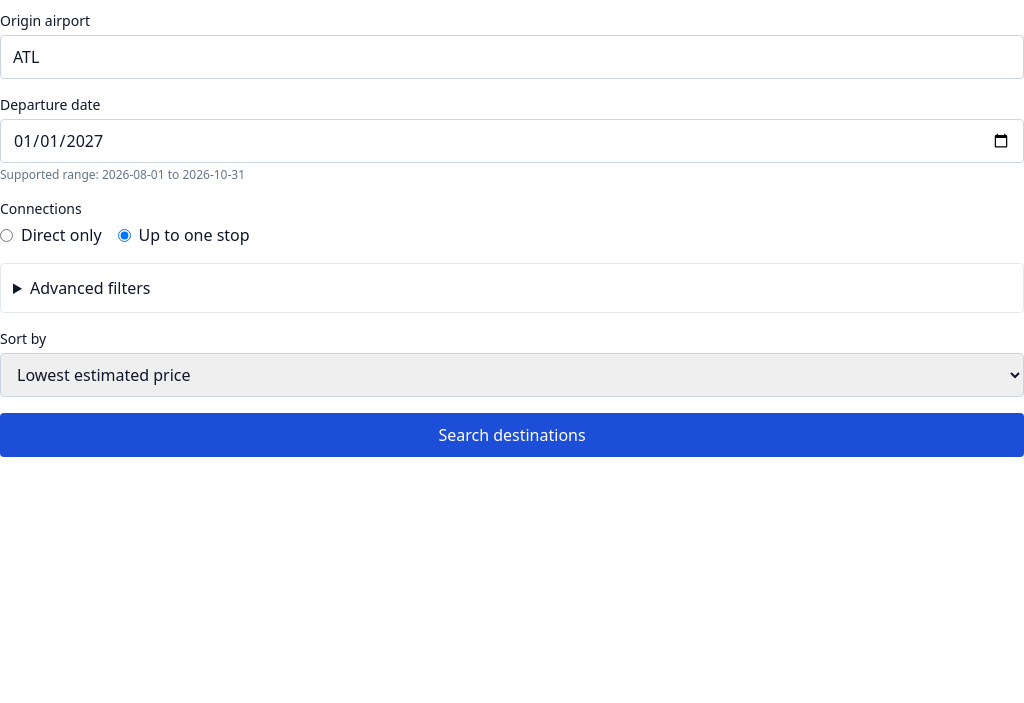
Test: SearchForm › rejects schedule-range and connection-range errors and focuses the alert
Click the button "Search destinations". click: (512, 435)
box: [0,413,1023,457]
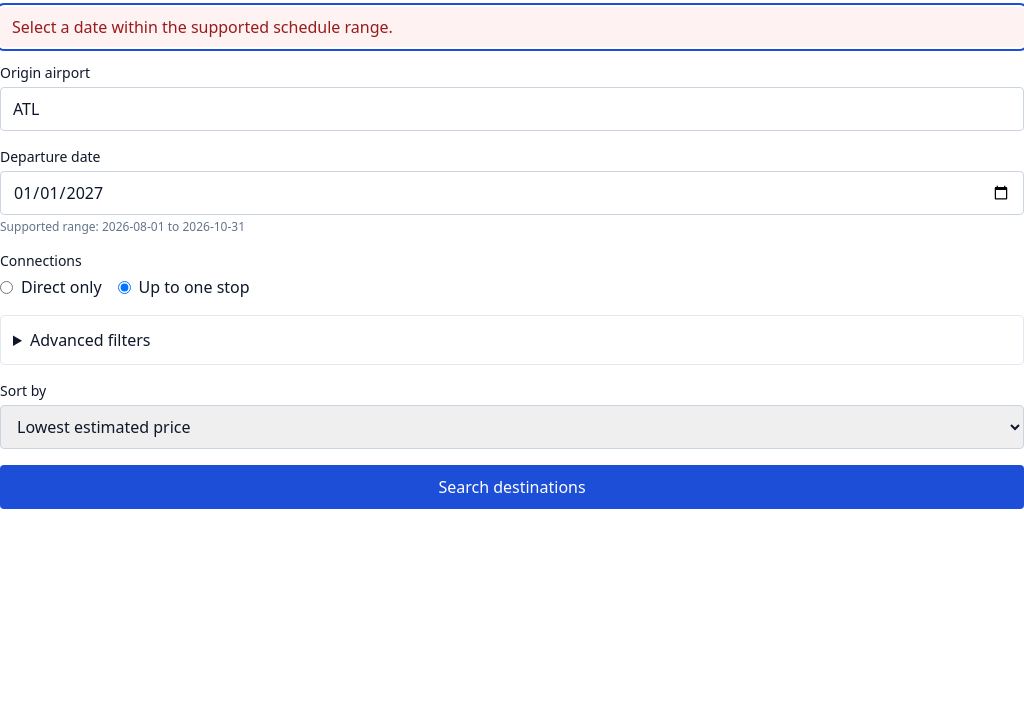
Expected: the message shows "supported schedule range", [12,16,393,38]
Type "2026-08-04" into the date field labelled "Departure date". click: (512, 193)
box: [0,171,1023,215]
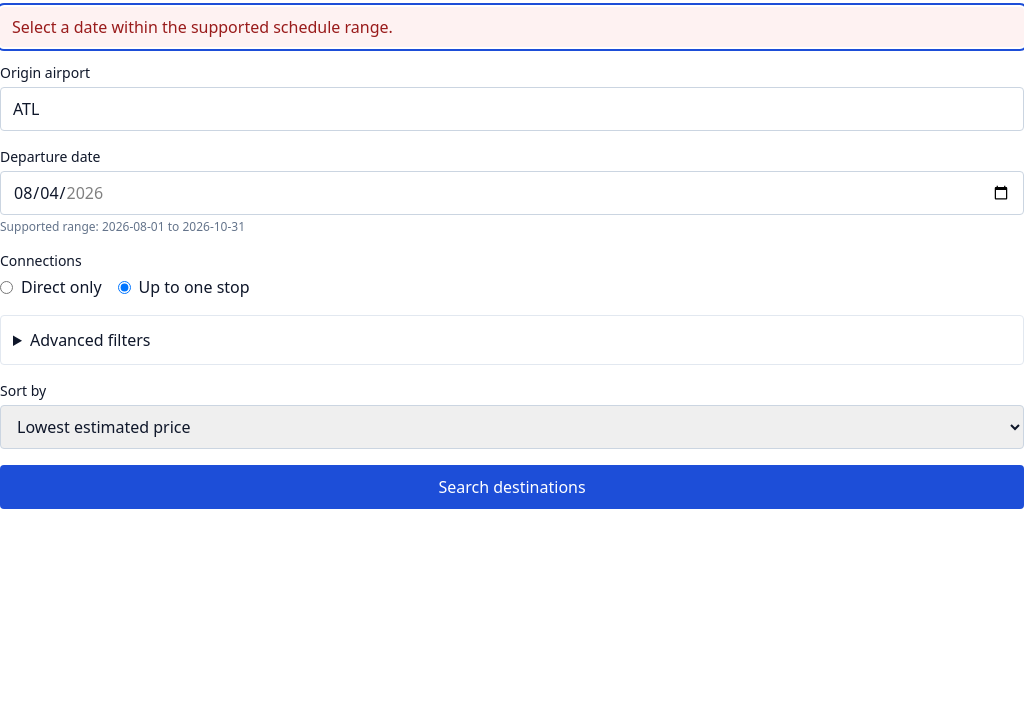
Click the heading "Advanced filters". click: (90, 340)
box: [30,329,150,351]
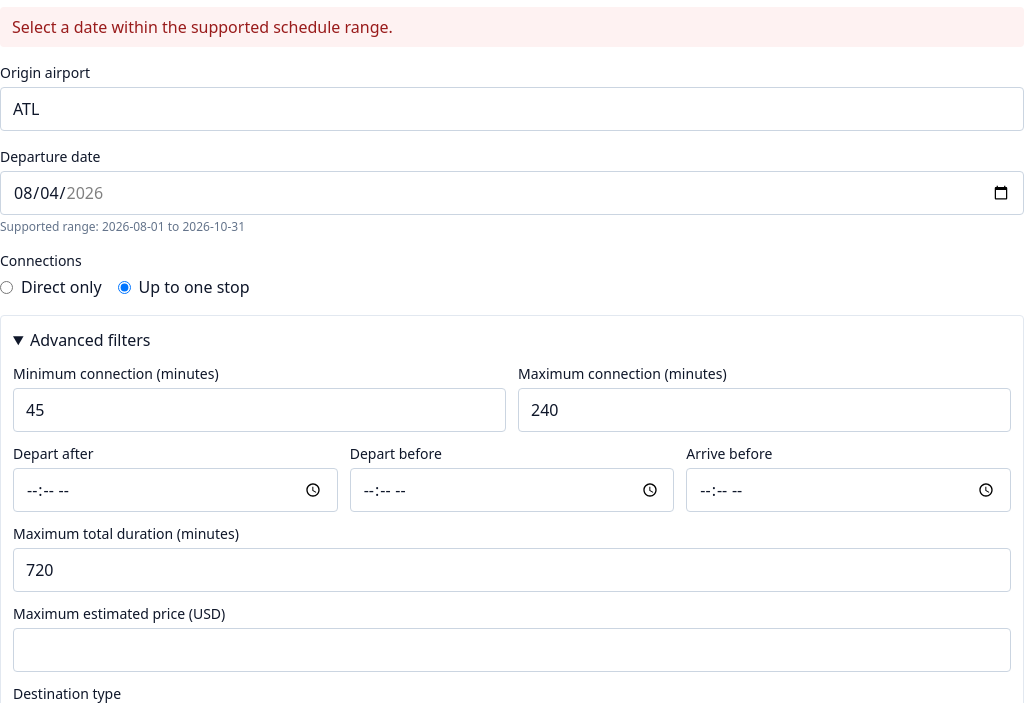
Replace the text in the number field labelled "Minimum connection (minutes)" with "300". click: (260, 410)
box: [13,388,506,432]
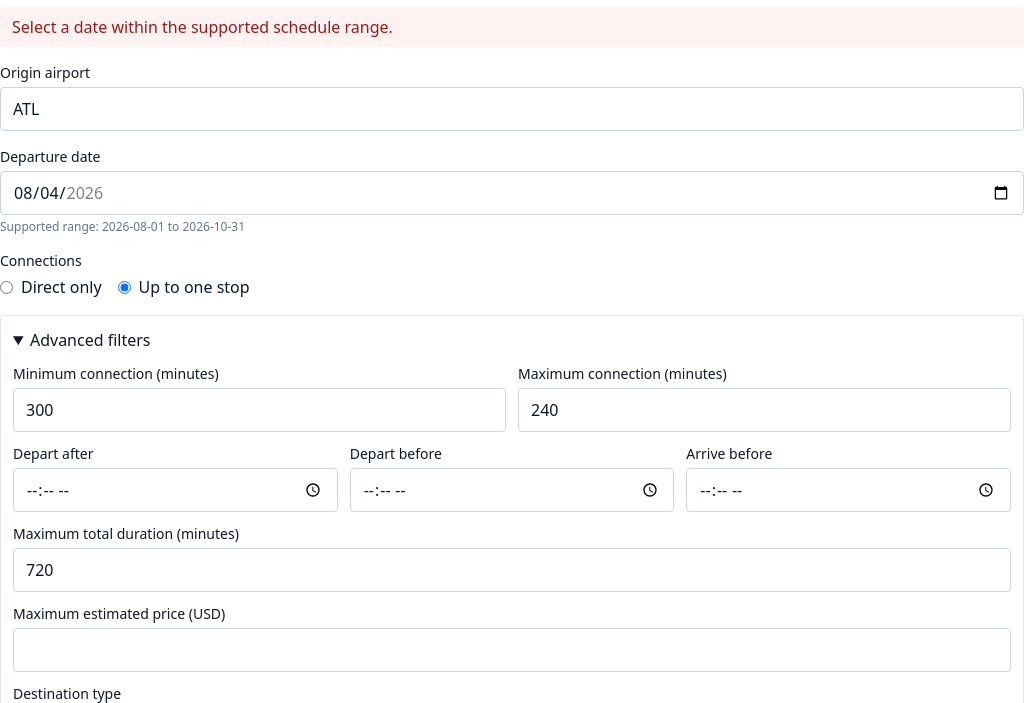
Replace the text in the number field labelled "Maximum connection (minutes)" with "60". click: (764, 410)
box: [518,388,1011,432]
(page scrolled)
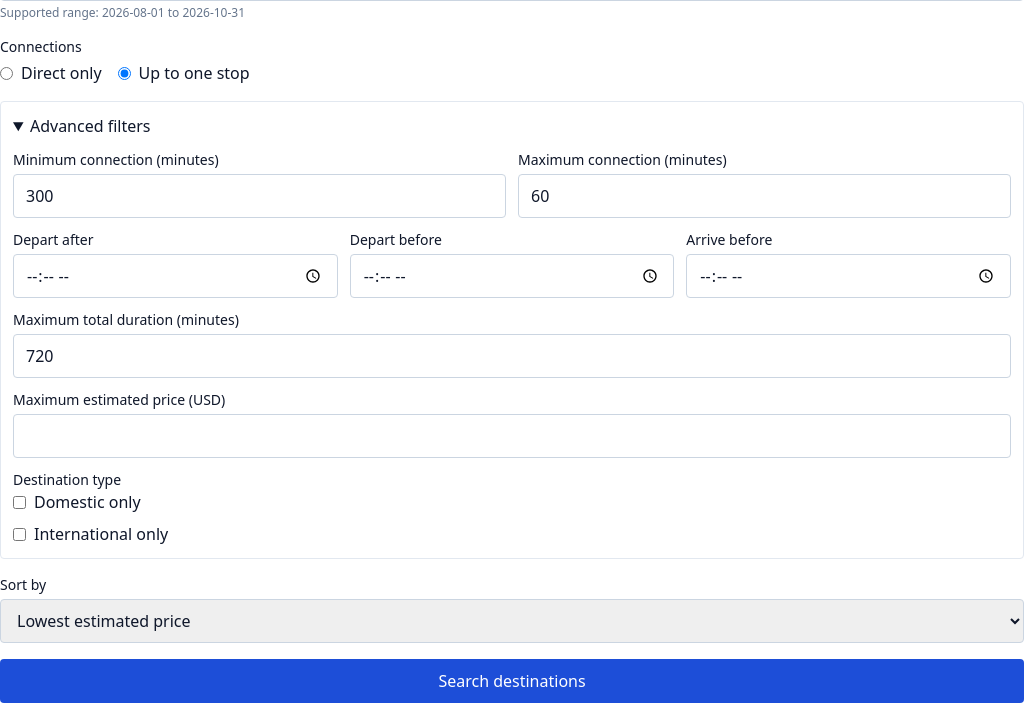
Click the button "Search destinations". click: (512, 681)
box: [0,659,1023,702]
(page scrolled)
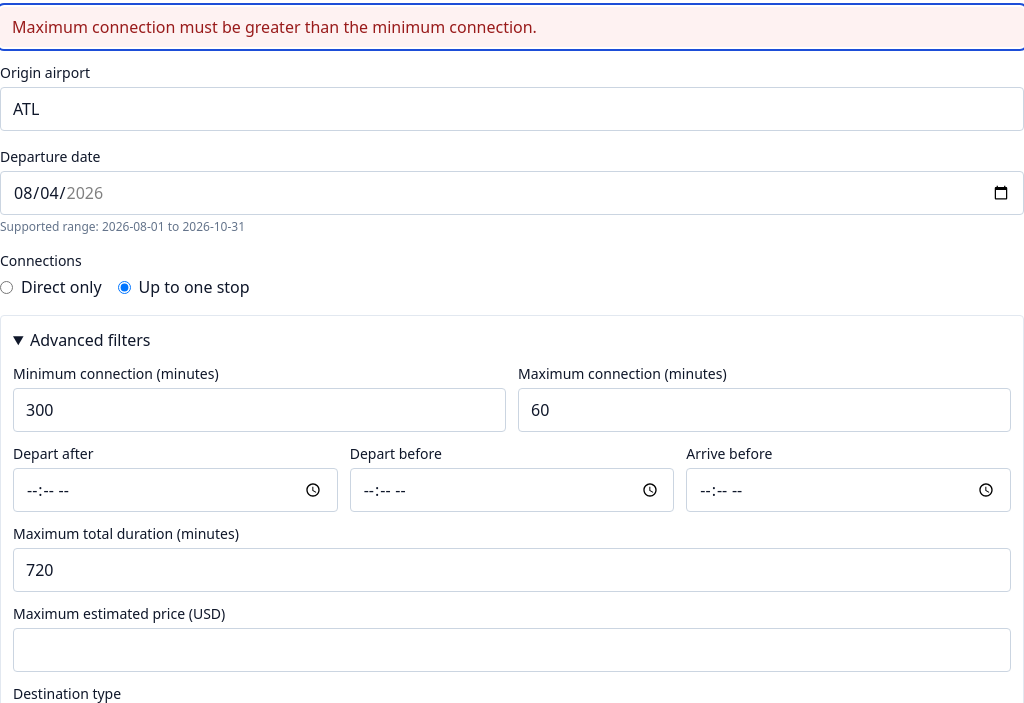
Expected: the message shows "greater than the minimum", [12,16,537,38]
